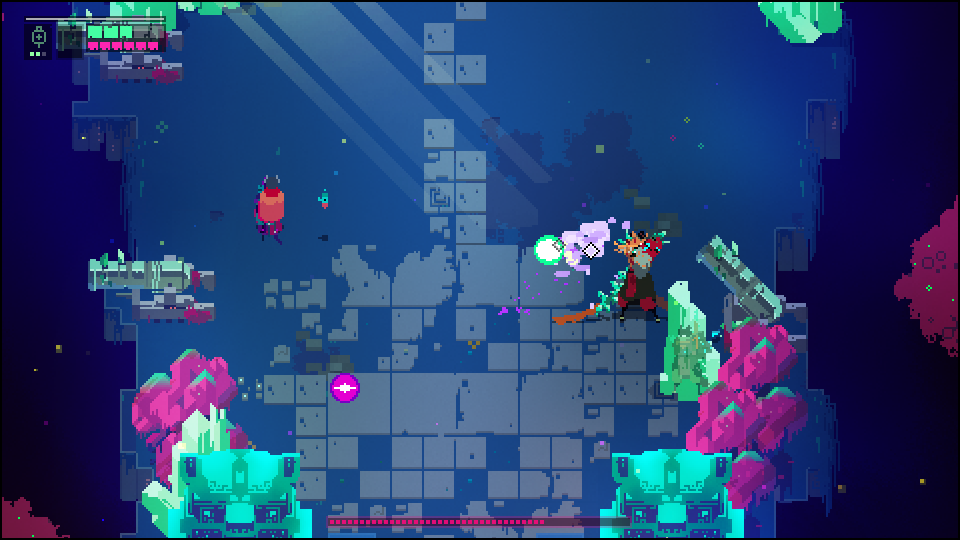hanged_man: (586, 223, 675, 328)
hanged_shot: (533, 233, 566, 270), (330, 371, 360, 404)
player: (257, 172, 288, 232)
